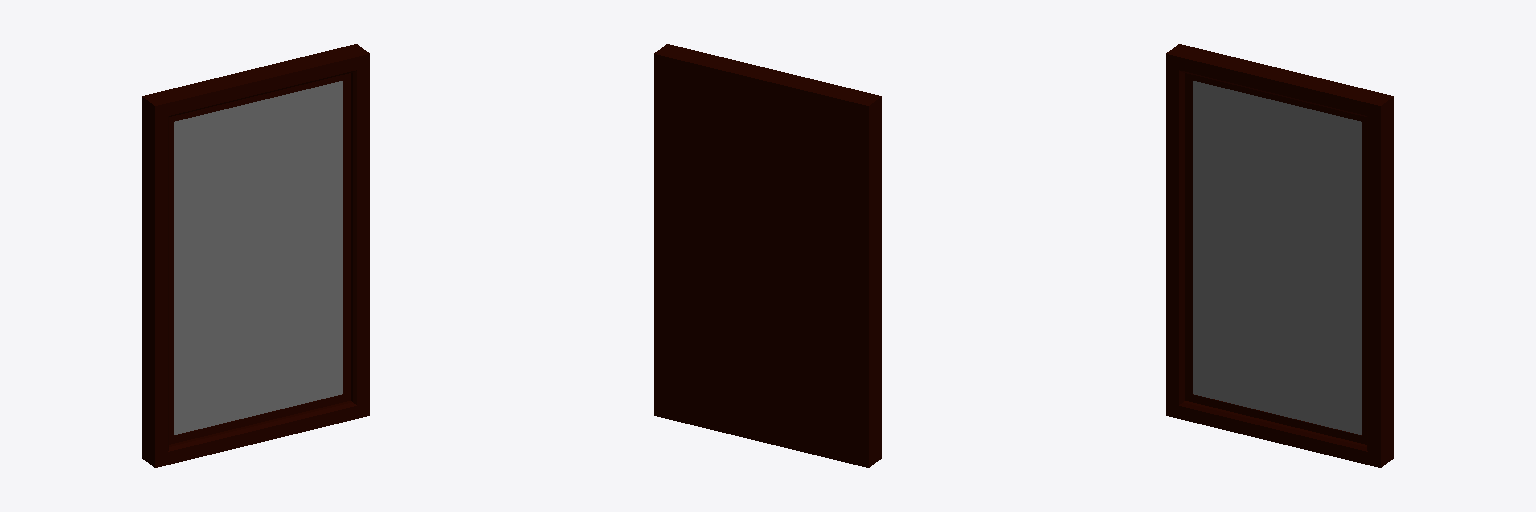
File: mirror.obj
3 renders of one model, left to right at view 1: azimuth 30°, elevation 25°; view 2: azimuth 150°, elevation 25°; view 3: azimuth 330°, elevation 25°, orthographic.
Size of the model in its own units: 6.56 by 10.56 by 0.7197.